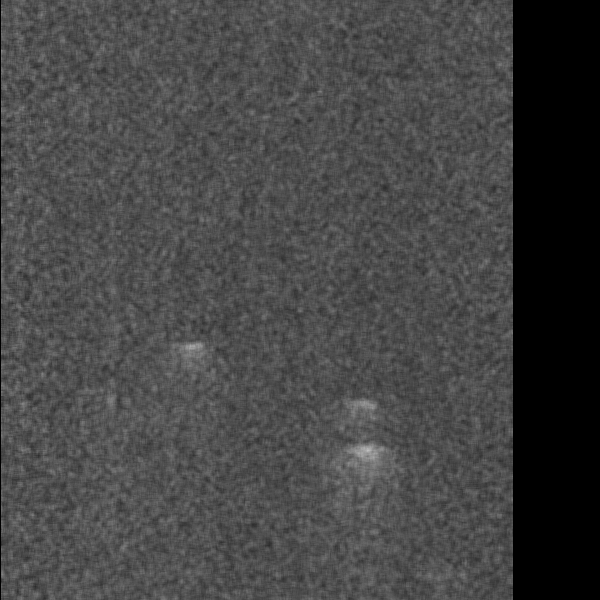spark: (337, 438, 395, 476), (173, 339, 214, 379), (336, 395, 388, 423)
